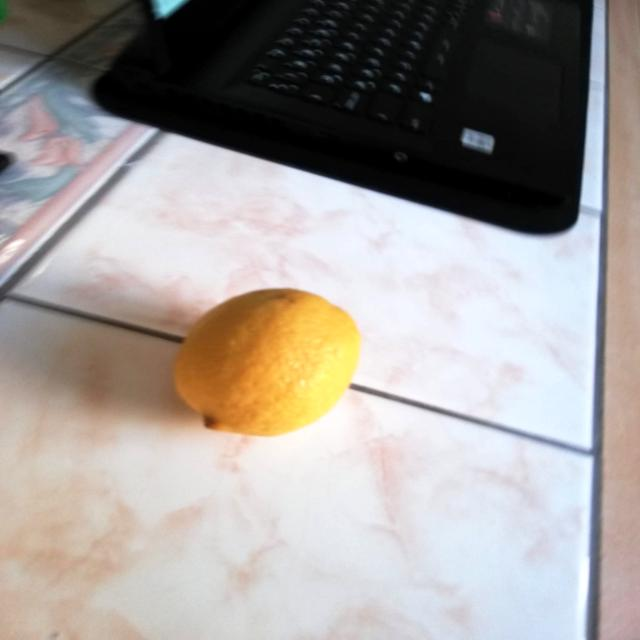lemon: (153, 276, 383, 450)
